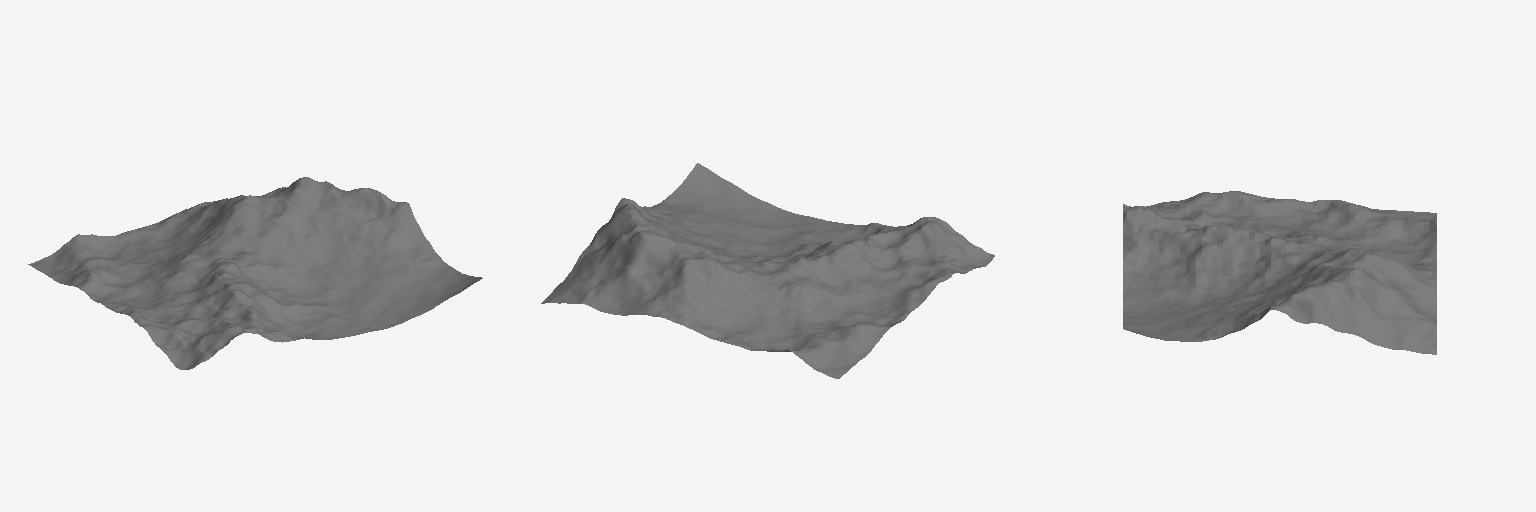
Rendered from ground16.obj.
3 views of the same model, side by side, from view 1: azimuth 30°, elevation 25°; view 2: azimuth 150°, elevation 25°; view 3: azimuth 270°, elevation 25° (orthographic).
Parts seen in each view (by area): view 1: ground16; view 2: ground16; view 3: ground16.
Part boxes in pixels (bbox=[...]): ground16: bbox=[28, 177, 482, 369]; ground16: bbox=[541, 163, 994, 378]; ground16: bbox=[1123, 191, 1436, 354].
Bounding box in the file's own units: 85.78 × 16.38 × 78.51.